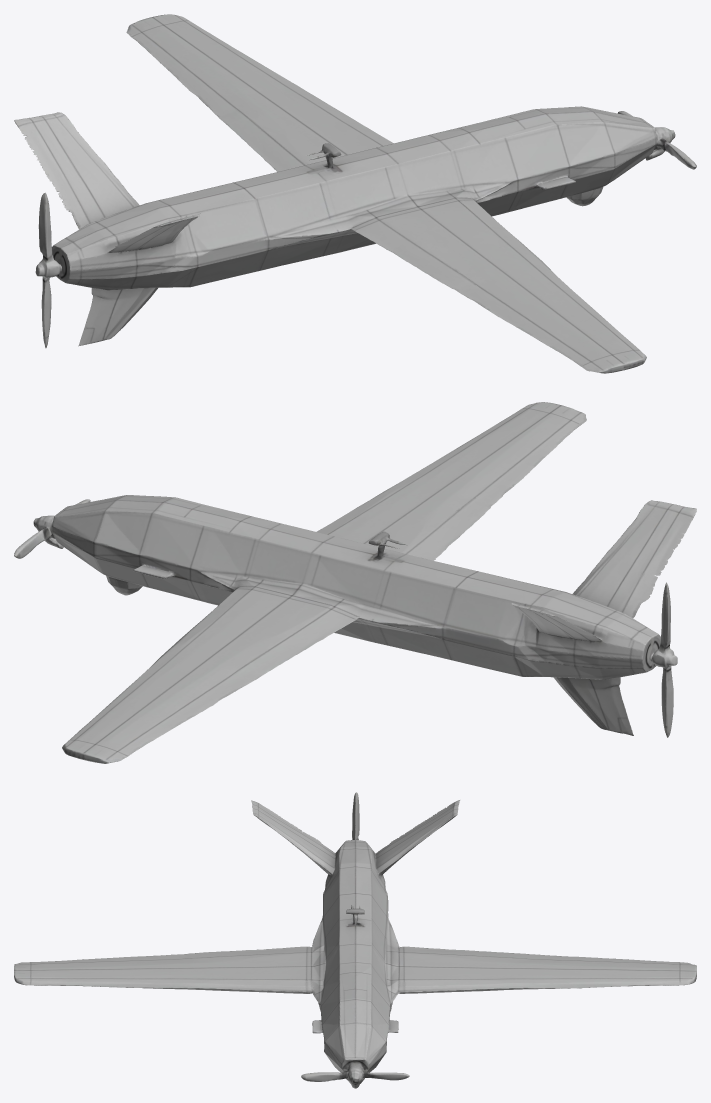
Rendered from shahed-136.glb.
The picture shows the model from 3 angles, top to bottom: view 1: azimuth 30°, elevation 25°; view 2: azimuth 150°, elevation 25°; view 3: azimuth 270°, elevation 25°; orthographic projection. The views are drawn at different scales.
Parts seen in each view (by area): view 1: tripo_node_3ce0ed59-10a1-4c88-a6dd-28a281801669; view 2: tripo_node_3ce0ed59-10a1-4c88-a6dd-28a281801669; view 3: tripo_node_3ce0ed59-10a1-4c88-a6dd-28a281801669.
Part boxes in pixels (<box>): tripo_node_3ce0ed59-10a1-4c88-a6dd-28a281801669: <box>14,14,696,373</box>; tripo_node_3ce0ed59-10a1-4c88-a6dd-28a281801669: <box>14,402,696,763</box>; tripo_node_3ce0ed59-10a1-4c88-a6dd-28a281801669: <box>14,792,696,1088</box>.
Bounding box in the file's own units: 0.7775 × 0.1996 × 1.
1 material, 1 textured.
